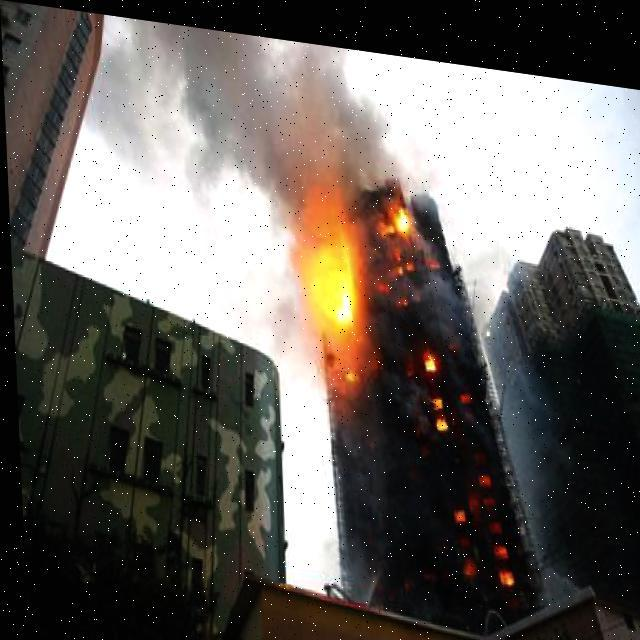Fire: (297, 170, 373, 380), (446, 443, 509, 575), (374, 184, 424, 289), (408, 331, 447, 421)
